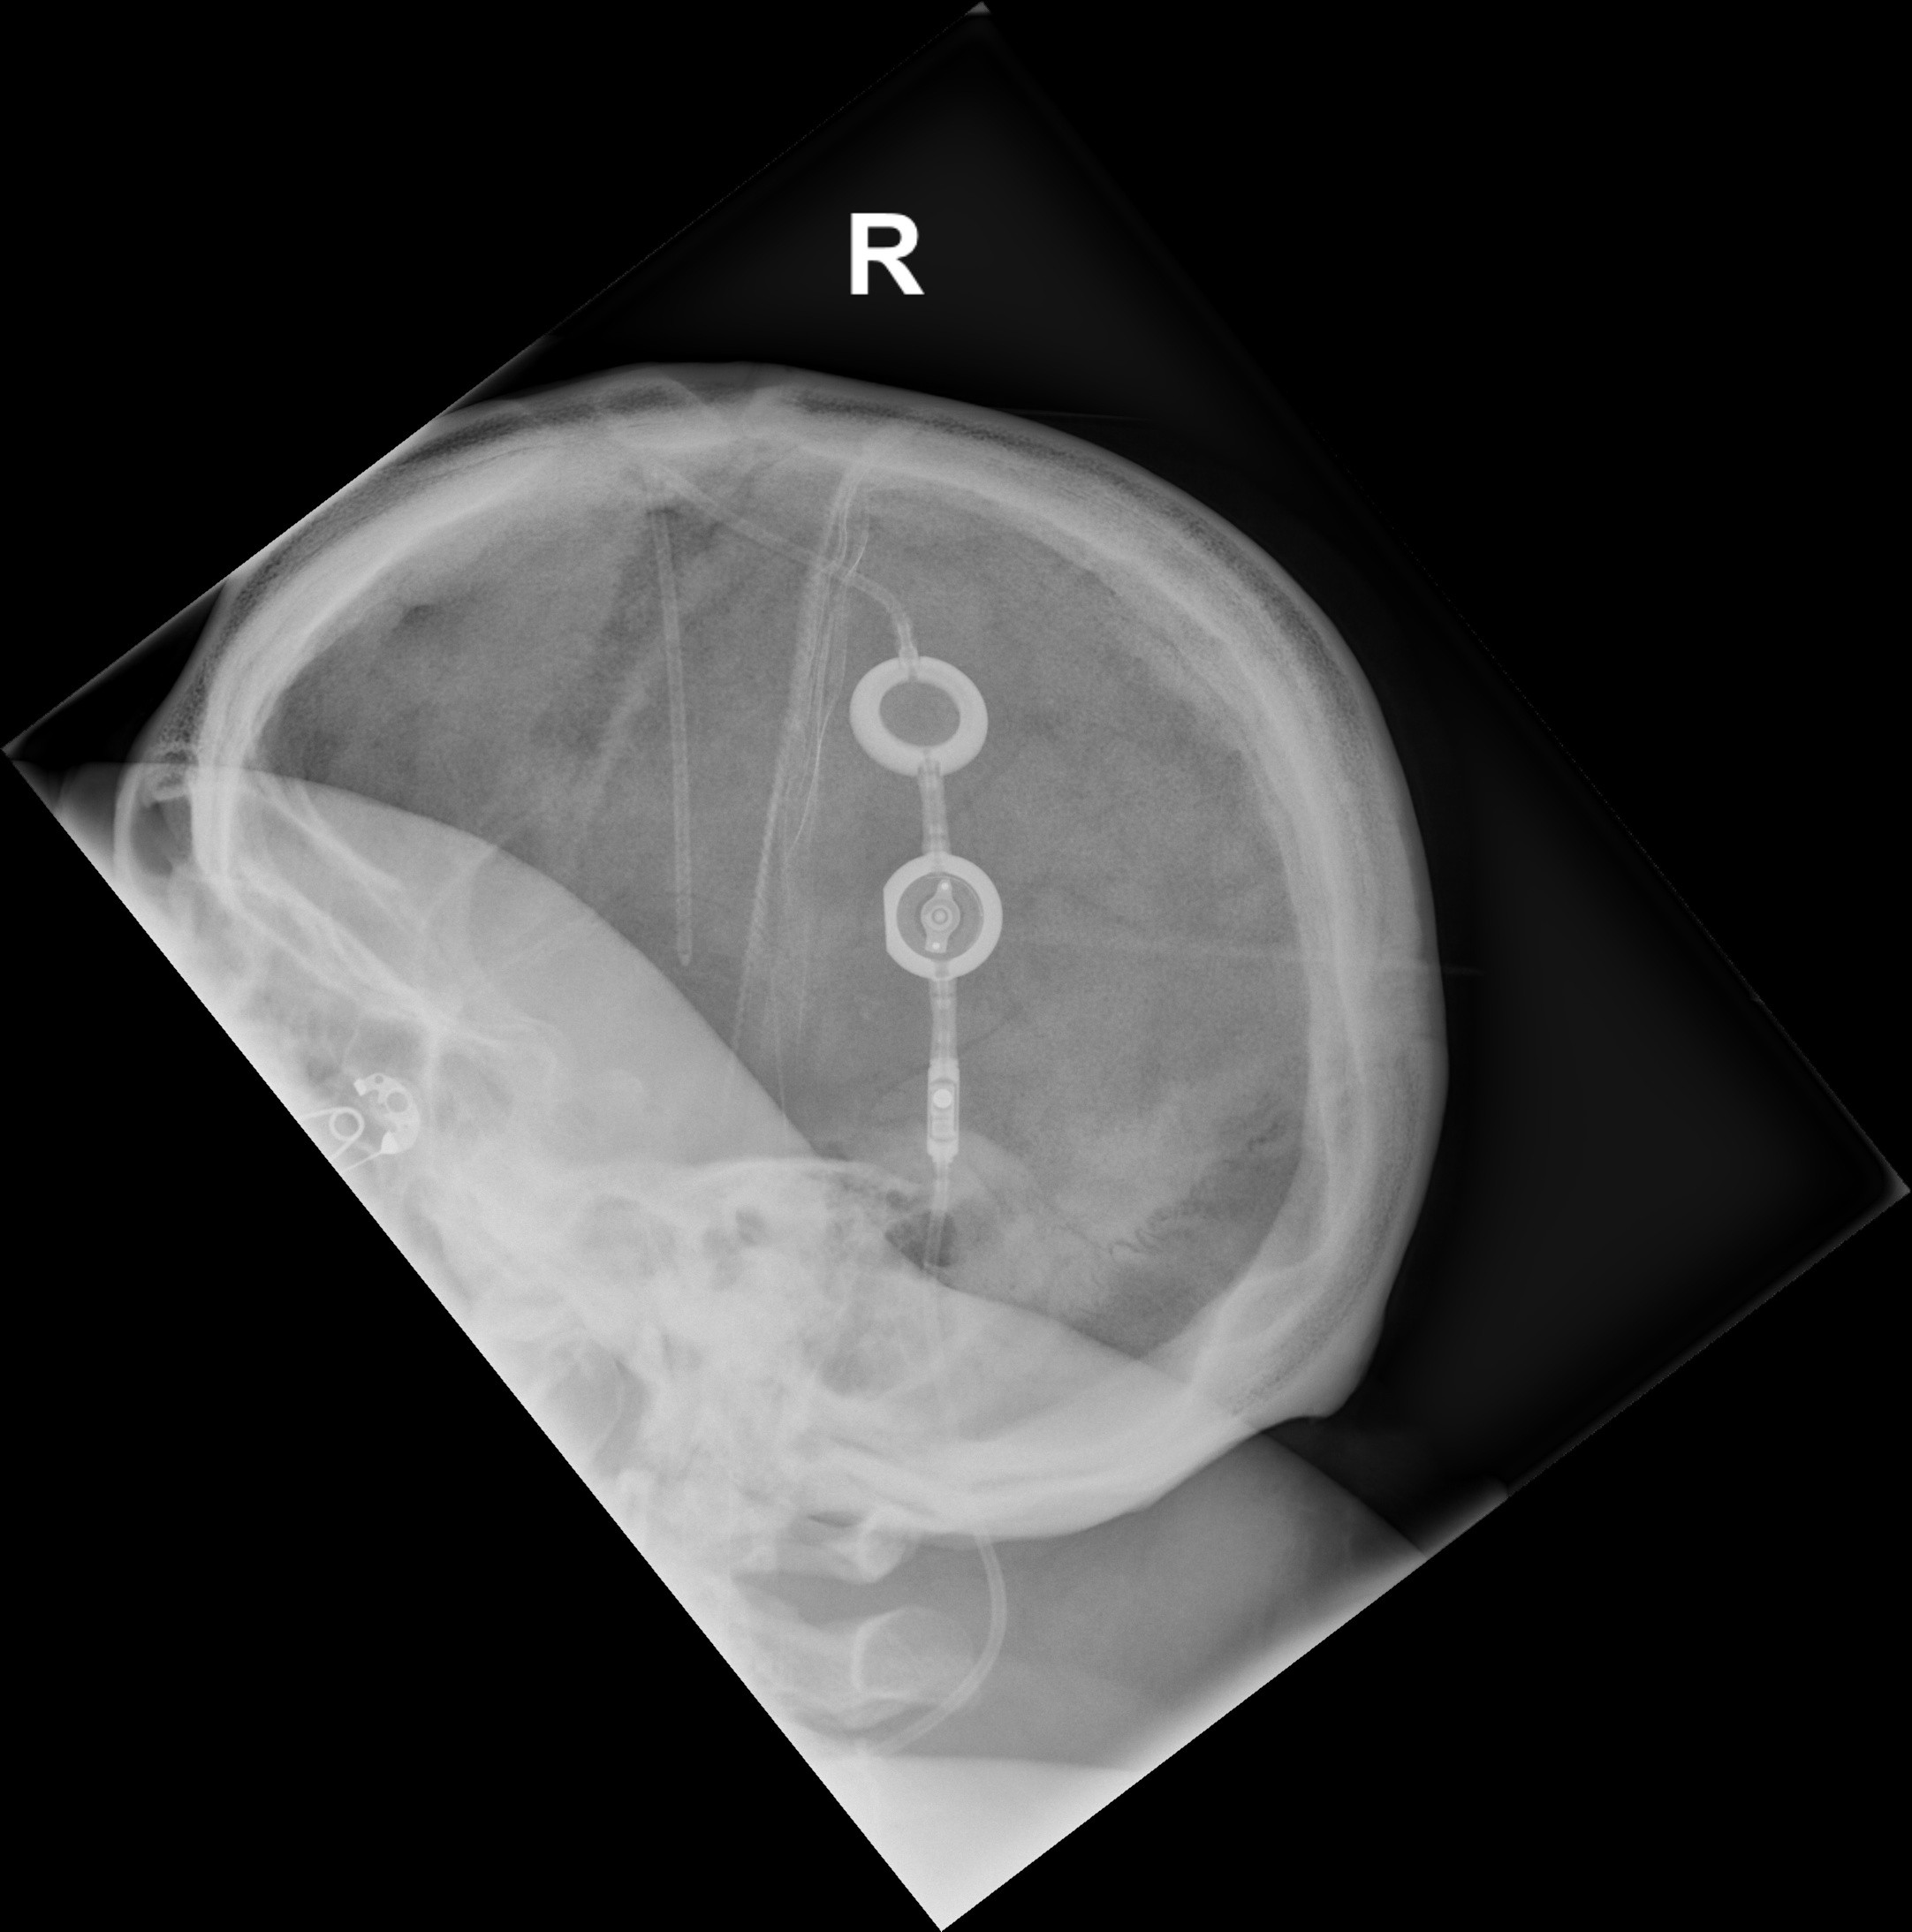proGAV: (872, 849, 1010, 989)
proGAV Gravitationseinheit: (916, 1052, 974, 1172)
